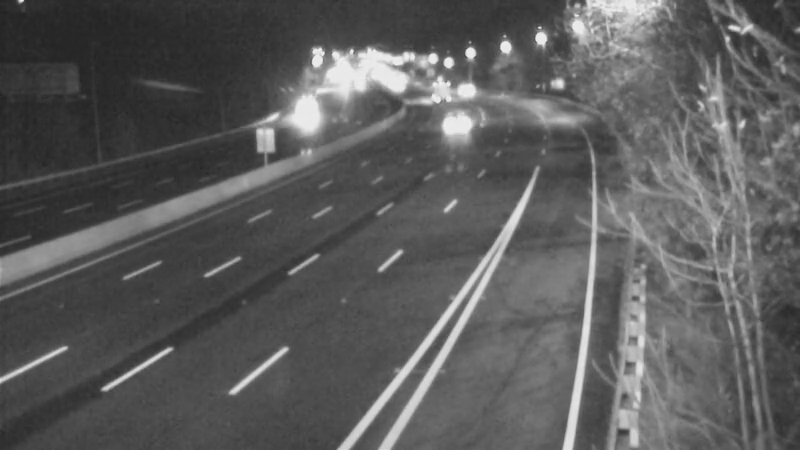vehicle: (413, 66, 463, 116), (442, 60, 492, 110), (430, 92, 480, 142), (273, 92, 323, 142)
